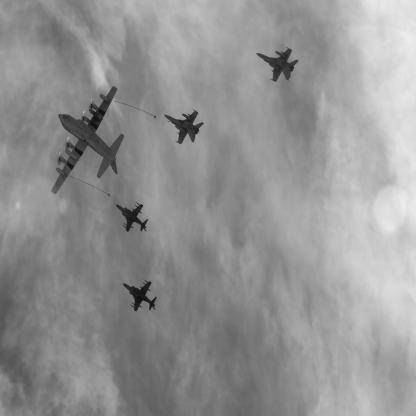AV8B: (124, 280, 158, 313), (117, 203, 149, 234)
C130: (52, 87, 125, 196)
F18: (257, 48, 299, 83), (165, 110, 205, 146)
